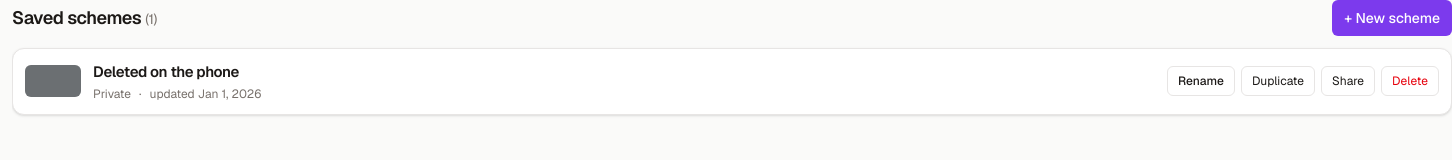
deleting a scheme › treats a row that was already gone as deleted, not as an error
Expected: the link "Deleted on the phone" is shown, x1=93 y1=62 x2=239 y2=81
Step 1. Click the button "Delete" → [1410, 81], box x1=1381 y1=66 x2=1439 y2=96
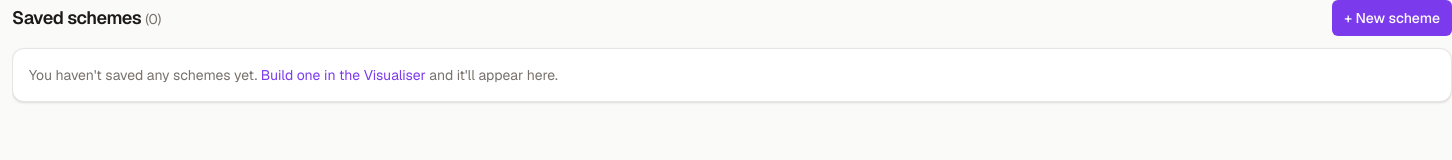
Expected: the link "Deleted on the phone" is gone
